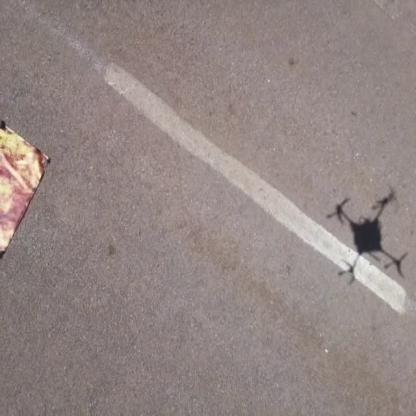fire-poster: (0, 116, 51, 262)
